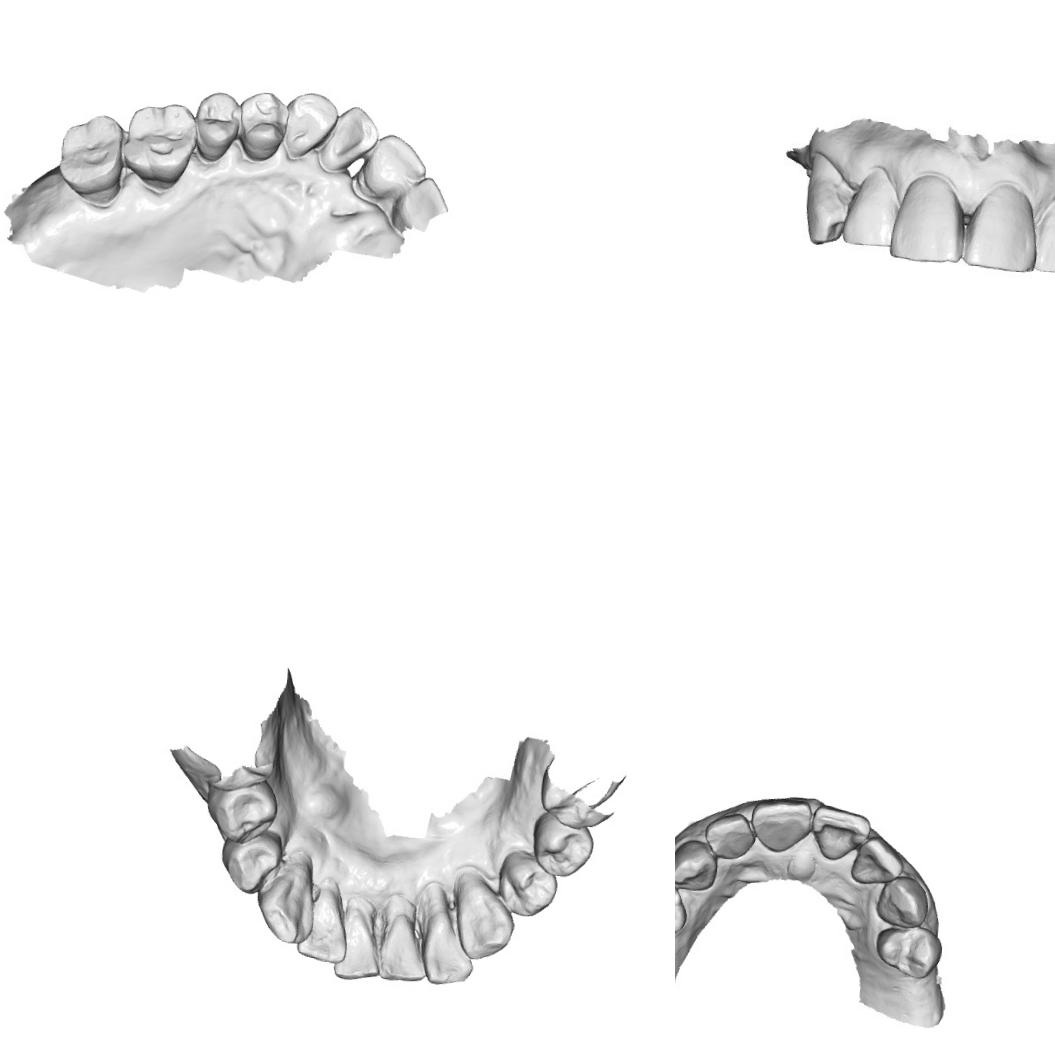canine: (792, 150, 855, 258), (253, 852, 317, 947), (452, 878, 518, 961), (282, 88, 339, 162), (873, 872, 930, 928), (675, 837, 719, 892)
incisor: (889, 164, 968, 275), (961, 173, 1040, 280), (837, 164, 908, 260), (420, 889, 478, 985), (359, 130, 430, 198), (317, 102, 380, 175), (374, 902, 430, 984), (330, 901, 386, 982), (294, 886, 350, 967), (746, 794, 814, 854), (807, 802, 872, 864), (389, 173, 452, 233), (848, 833, 906, 888), (702, 809, 756, 861), (1031, 202, 1055, 278)
molar: (117, 98, 198, 192), (53, 112, 128, 208)
premolar: (203, 775, 280, 844), (527, 807, 594, 879), (217, 826, 283, 897), (870, 921, 946, 981), (494, 848, 558, 918), (190, 88, 244, 166), (236, 88, 291, 164), (675, 872, 690, 936)
